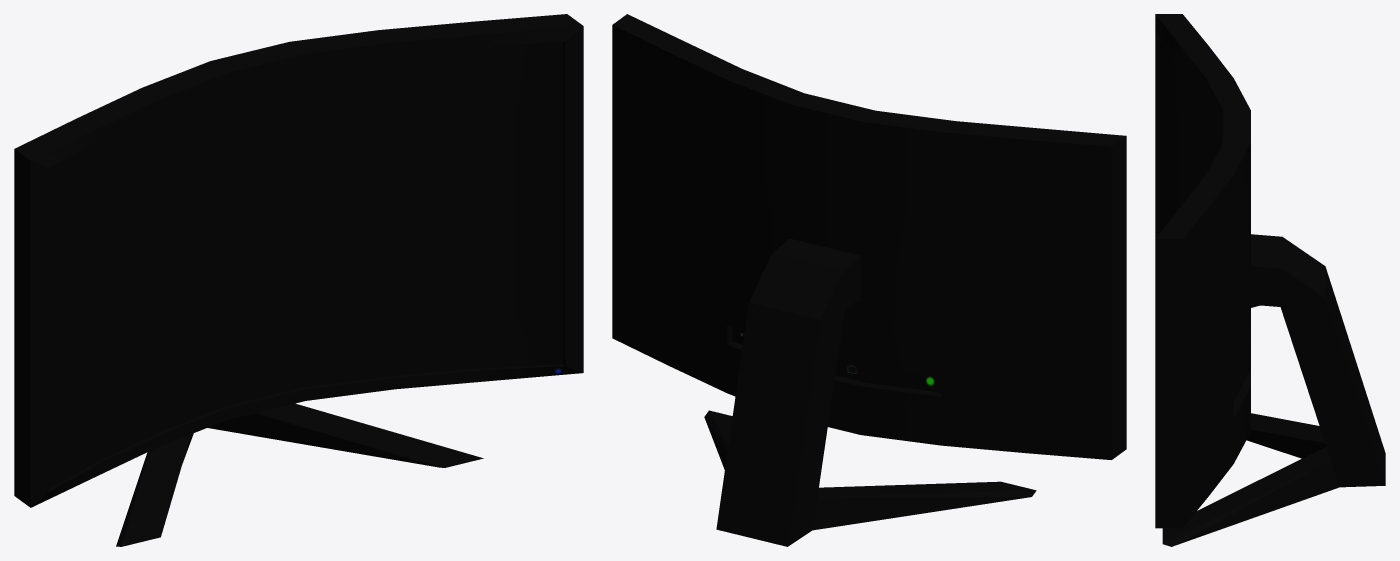
File: screen.glb
3 views of the same model, side by side, from view 1: azimuth 30°, elevation 25°; view 2: azimuth 150°, elevation 25°; view 3: azimuth 270°, elevation 25° (orthographic). The views are drawn at different scales.
Visible parts, largest first — view 1: Cube.001; view 2: Cube.001; view 3: Cube.001.
Boxes of the visible parts, box(x1,y1,x2,y2) form: Cube.001: box(14, 14, 583, 546); Cube.001: box(612, 14, 1126, 546); Cube.001: box(1155, 14, 1385, 546).
Bounding box in the file's own units: 4.53 × 3.25 × 1.96.
1 material, 1 textured.
